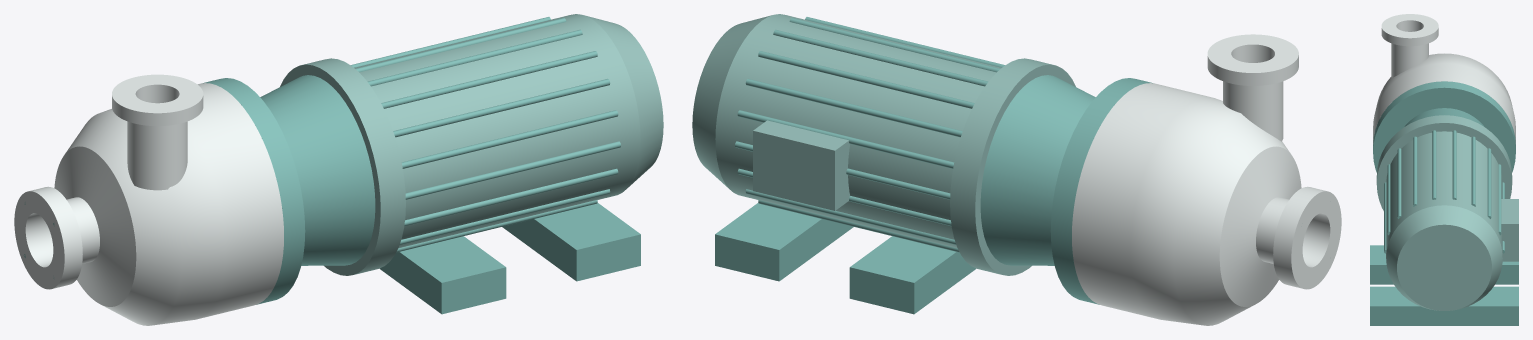
The picture shows the model from 3 angles, left to right: view 1: azimuth 30°, elevation 25°; view 2: azimuth 150°, elevation 25°; view 3: azimuth 270°, elevation 25°; orthographic projection. The views are drawn at different scales.
Parts seen in each view (by area): view 1: 泵体_圆弧壳与轴向进液口, 电机_带筋机壳, 连接座_短连接段, 支脚_电机底脚 (×2), 电机_连接法兰, 连接座_泵壳连接环, 接口_朝上出液法兰, 接口_偏置竖向出液管, 电机_圆弧尾罩, 电机_散热筋09, 电机_散热筋08, 电机_散热筋10 (+7 smaller); view 2: 泵体_圆弧壳与轴向进液口, 电机_带筋机壳, 连接座_短连接段, 支脚_电机底脚 (×2), 电机_连接法兰, 电机_接线盒, 连接座_泵壳连接环, 接口_朝上出液法兰, 电机_圆弧尾罩, 接口_偏置竖向出液管, 电机_散热筋03, 电机_散热筋04 (+8 smaller); view 3: 电机_圆弧尾罩, 电机_带筋机壳, 支脚_电机底脚 (×2), 连接座_泵壳连接环, 泵体_圆弧壳与轴向进液口, 电机_连接法兰, 接口_朝上出液法兰, 电机_接线盒, 接口_偏置竖向出液管, 连接座_短连接段, 电机_散热筋03, 电机_散热筋08 (+7 smaller).
Boxes of the visible parts, left/top/right/bottom form: 泵体_圆弧壳与轴向进液口: left=14, top=83, right=283, bottom=325; 电机_带筋机壳: left=354, top=14, right=640, bottom=248; 连接座_短连接段: left=260, top=75, right=375, bottom=265; 支脚_电机底脚 (×2): left=379, top=203, right=640, bottom=314; 电机_连接法兰: left=280, top=58, right=405, bottom=275; 连接座_泵壳连接环: left=203, top=78, right=305, bottom=304; 接口_朝上出液法兰: left=112, top=74, right=203, bottom=126; 接口_偏置竖向出液管: left=127, top=97, right=187, bottom=190; 电机_圆弧尾罩: left=584, top=15, right=663, bottom=187; 电机_散热筋09: left=401, top=110, right=618, bottom=168; 电机_散热筋08: left=393, top=79, right=610, bottom=137; 电机_散热筋10: left=405, top=141, right=620, bottom=199; 泵体_圆弧壳与轴向进液口: left=1072, top=83, right=1341, bottom=325; 电机_带筋机壳: left=715, top=14, right=1001, bottom=248; 连接座_短连接段: left=980, top=75, right=1095, bottom=265; 支脚_电机底脚 (×2): left=715, top=203, right=976, bottom=314; 电机_连接法兰: left=950, top=58, right=1075, bottom=275; 电机_接线盒: left=753, top=120, right=850, bottom=210; 连接座_泵壳连接环: left=1050, top=78, right=1152, bottom=304; 接口_朝上出液法兰: left=1207, top=34, right=1298, bottom=85; 电机_圆弧尾罩: left=692, top=15, right=771, bottom=187; 接口_偏置竖向出液管: left=1223, top=57, right=1283, bottom=141; 电机_散热筋03: left=745, top=79, right=962, bottom=137; 电机_散热筋04: left=758, top=51, right=974, bottom=108; 电机_圆弧尾罩: left=1386, top=205, right=1502, bottom=310; 电机_带筋机壳: left=1386, top=131, right=1502, bottom=257; 支脚_电机底脚 (×2): left=1370, top=245, right=1518, bottom=325; 连接座_泵壳连接环: left=1373, top=81, right=1515, bottom=172; 泵体_圆弧壳与轴向进液口: left=1373, top=53, right=1515, bottom=143; 电机_连接法兰: left=1376, top=115, right=1512, bottom=210; 接口_朝上出液法兰: left=1381, top=14, right=1438, bottom=46; 电机_接线盒: left=1501, top=199, right=1518, bottom=261; 接口_偏置竖向出液管: left=1391, top=28, right=1428, bottom=77; 连接座_短连接段: left=1404, top=108, right=1484, bottom=126; 电机_散热筋03: left=1487, top=148, right=1491, bottom=218; 电机_散热筋08: left=1397, top=148, right=1401, bottom=218.
Bounding box in the file's own units: 1.48 × 0.624 × 0.52.
